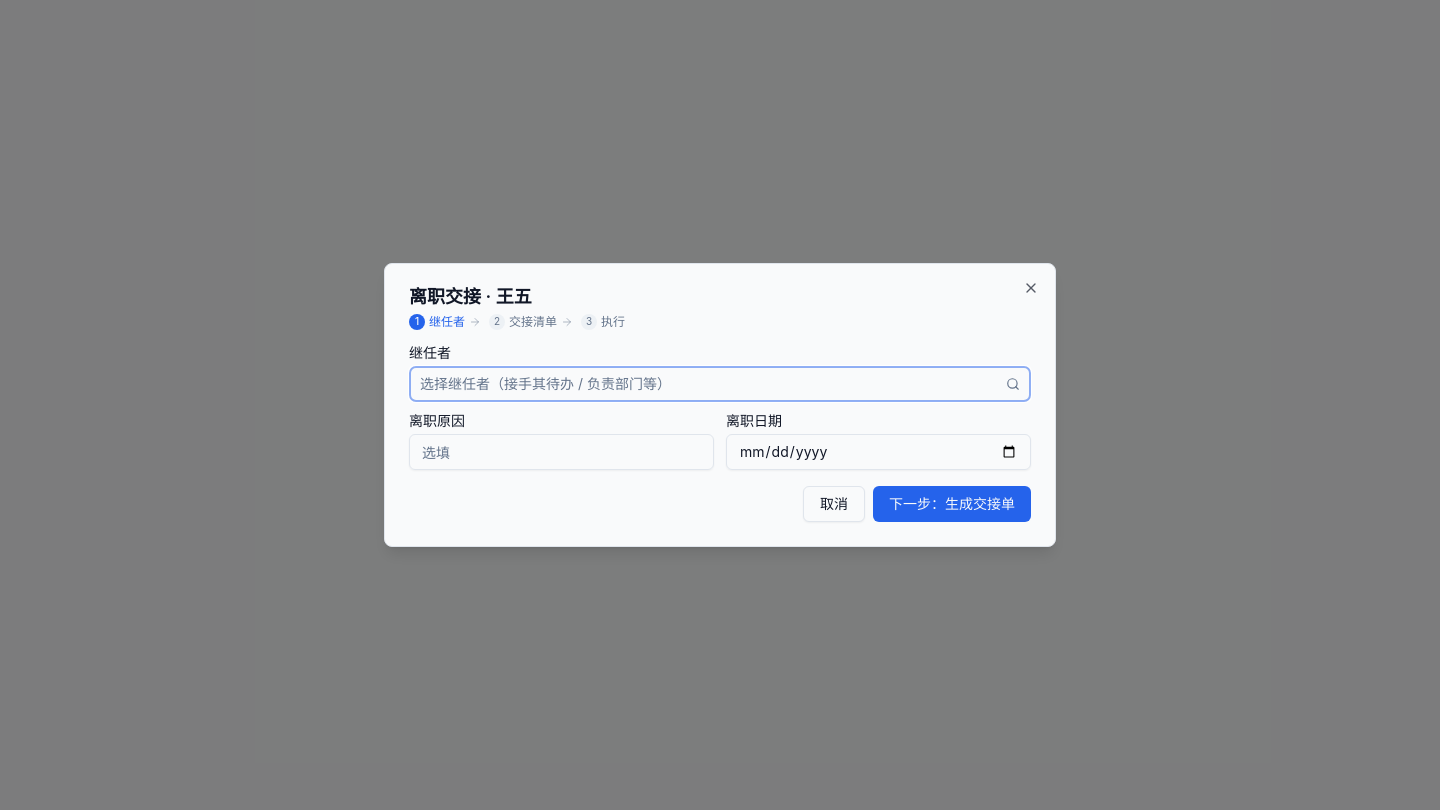
Test case: ResignWizard（DP2） › online 400 部门负责人阻断 → 停在步1，高亮请先指定继任者
Click the button "下一步：生成交接单".
click(952, 504)  # box [873,486,1031,522]
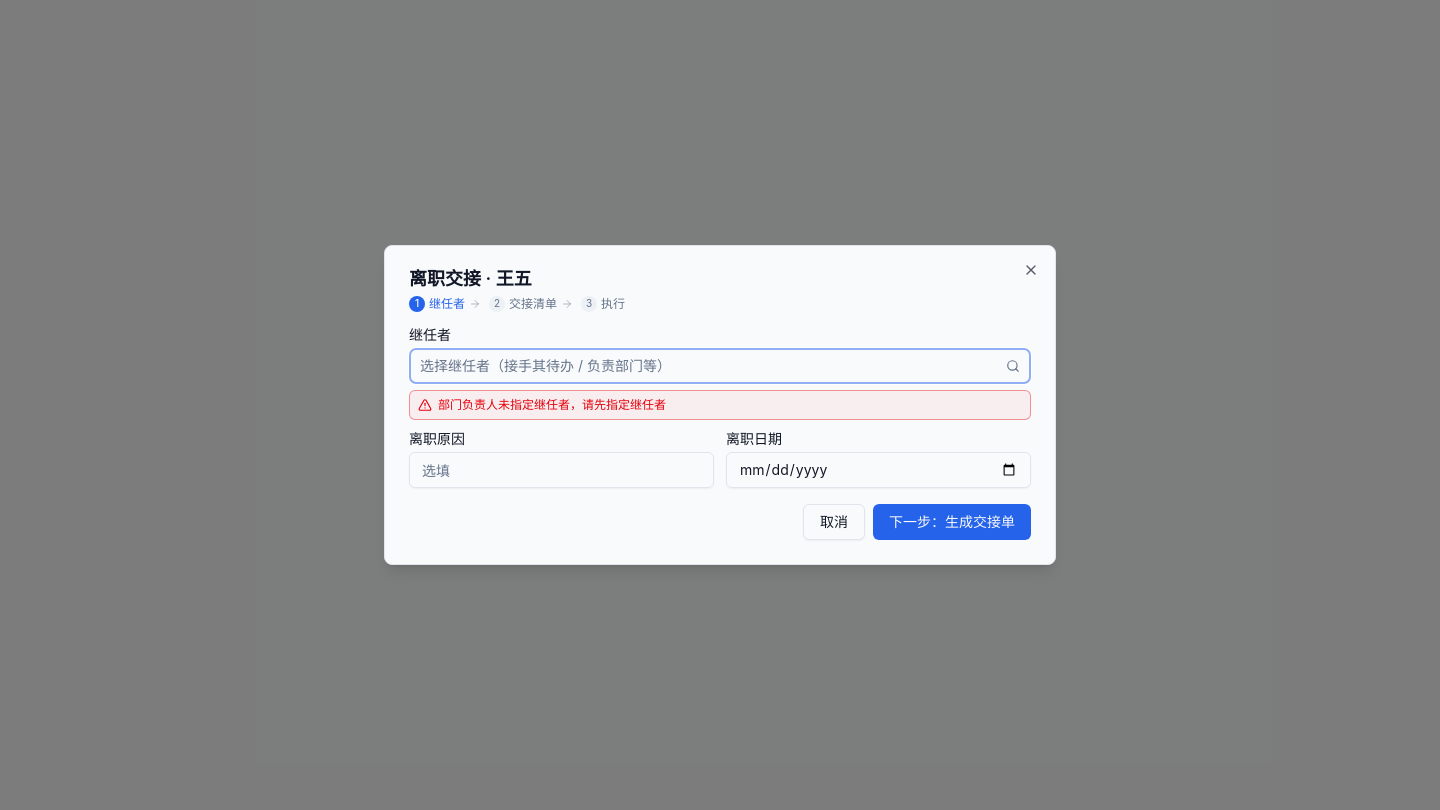
Expected: the button "下一步：生成交接单" is shown, [873,504,1031,540]
Result: the text "部门负责人未指定继任者，请先指定继任者" is shown at [409,390,1031,420]
